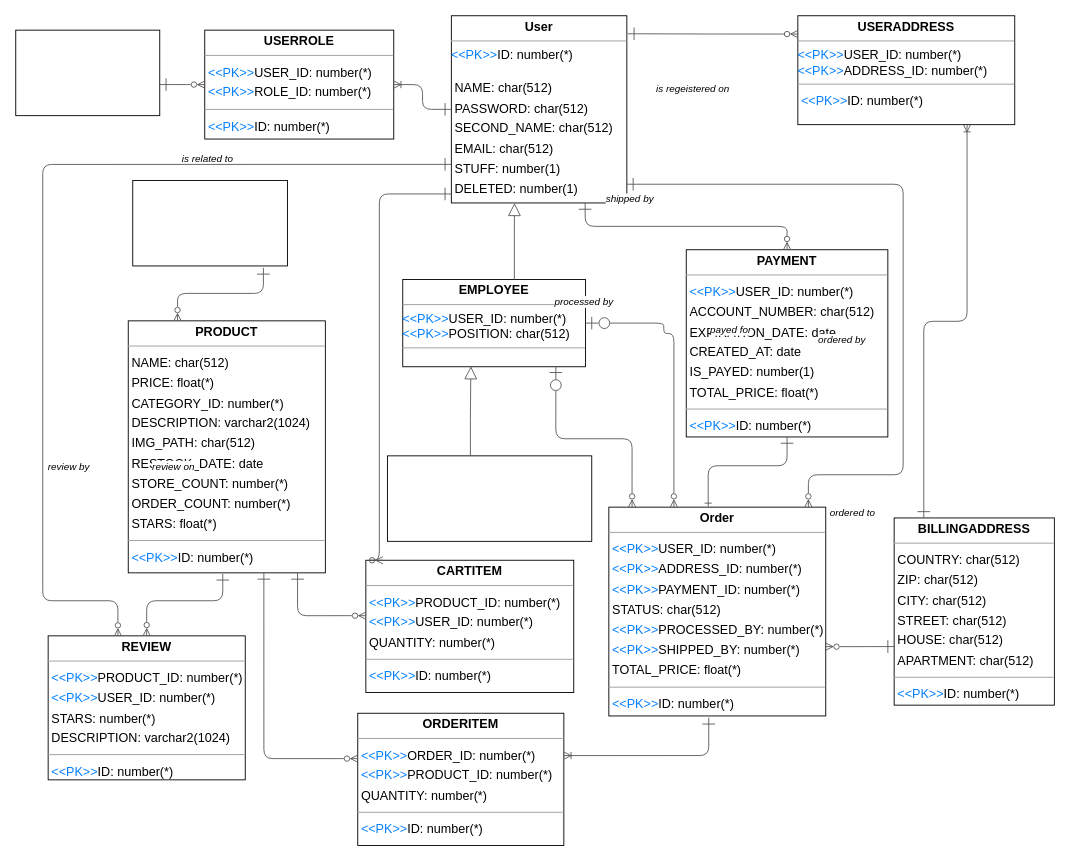
Some shapes in this 1070 by 861 pixel diagram are drawn without their labels. Each missing label, with the centre of its shape:
ADMIN <<PK>> EMPLOYEE_ID: number(*): (x=489, y=498)
CATEGORY NAME: char(512) <<PK>> ID: number(*): (x=210, y=223)
ROLE NAME: char(512) <<PK>> ID: number(*): (x=87, y=72)
